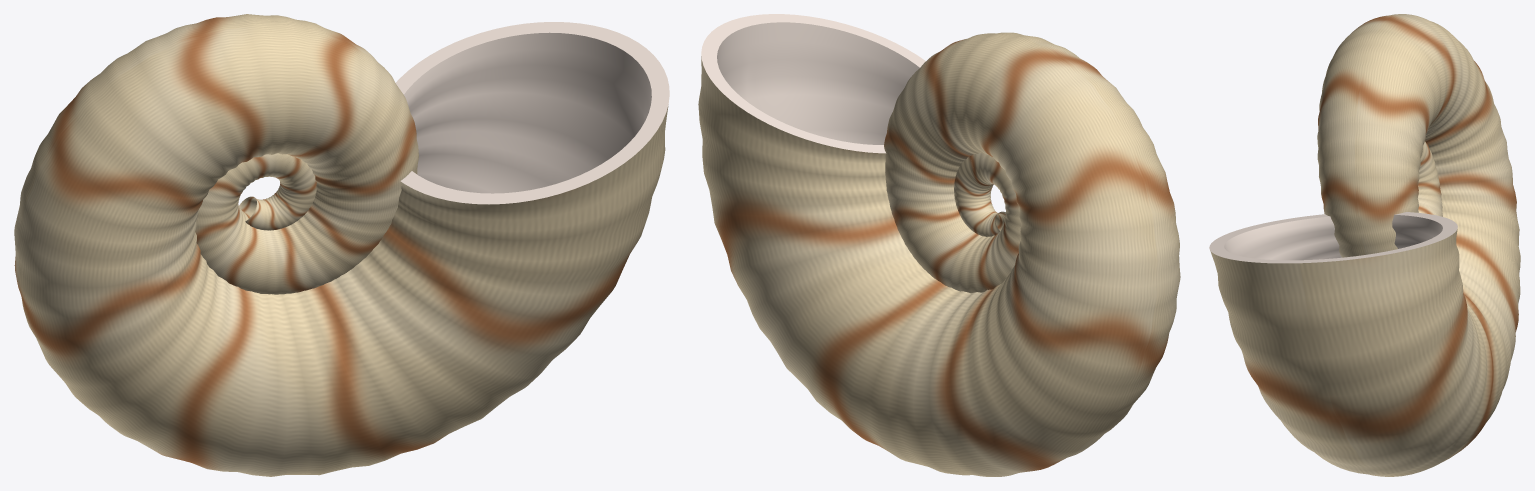
File: nautilus.glb
3 renders of one model, left to right at view 1: azimuth 30°, elevation 25°; view 2: azimuth 150°, elevation 25°; view 3: azimuth 270°, elevation 25°, orthographic. The views are drawn at different scales.
Parts seen in each view (by area): view 1: nautilus.001; view 2: nautilus.001; view 3: nautilus.001.
Boxes of the visible parts, x1,y1,x2,y2 form: nautilus.001: (14, 14, 669, 476); nautilus.001: (698, 14, 1180, 476); nautilus.001: (1209, 14, 1520, 476).
Size of the model in its own units: 1.92 by 1.54 by 1.11.
3 materials, 1 textured.
